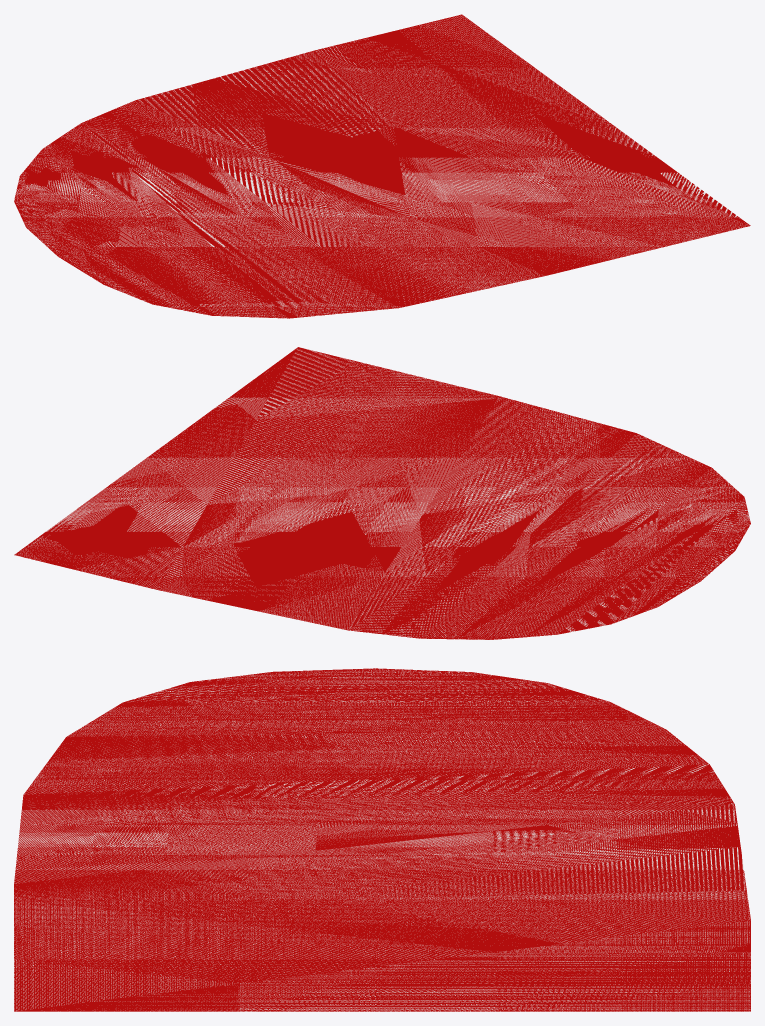
The model's file is original-30.obj.
3 views of the same model, one above another, from view 1: azimuth 30°, elevation 25°; view 2: azimuth 150°, elevation 25°; view 3: azimuth 270°, elevation 25° (orthographic). The views are drawn at different scales.
Parts seen in each view (by area): view 1: mesh29/mesh29-geometry#mesh29-geometry; view 2: mesh29/mesh29-geometry#mesh29-geometry; view 3: mesh29/mesh29-geometry#mesh29-geometry.
Part boxes in pixels (x1,y1,x2,y2): mesh29/mesh29-geometry#mesh29-geometry: [14, 14, 750, 318]; mesh29/mesh29-geometry#mesh29-geometry: [14, 347, 750, 639]; mesh29/mesh29-geometry#mesh29-geometry: [14, 668, 750, 1011].
Size of the model in its own units: 0.0378 by 0 by 0.0343.
